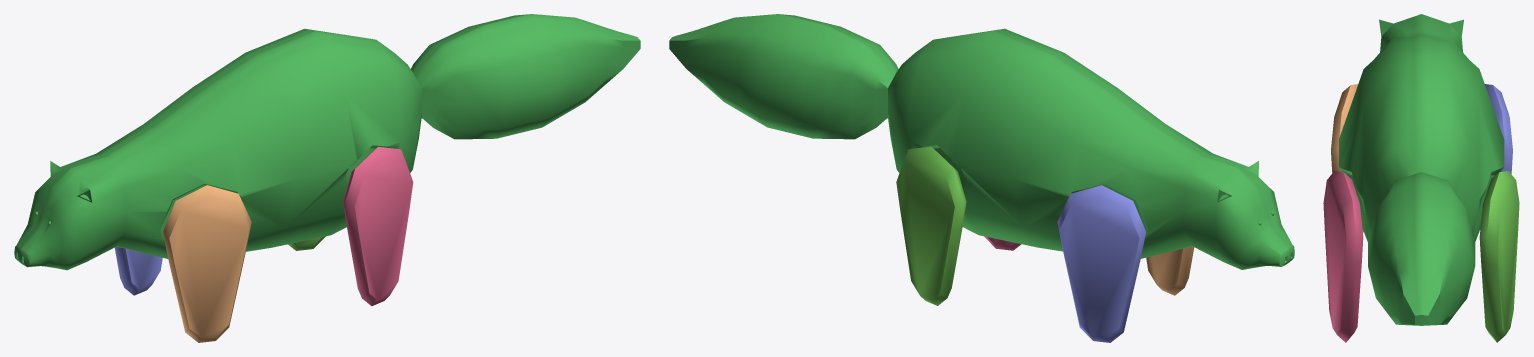
3 renders of one model, left to right at view 1: azimuth 30°, elevation 25°; view 2: azimuth 150°, elevation 25°; view 3: azimuth 270°, elevation 25°, orthographic. The views are drawn at different scales.
Parts seen in each view (by area): view 1: split_parent_3, Circle_0, Circle.001_0, Circle.003_0; view 2: split_parent_3, Circle.003_0, Circle.002_0, Circle_0; view 3: split_parent_3, Circle.002_0, Circle.001_0, Circle.003_0, Circle_0.
Part boxes in pixels (x1,y1,x2,y2): split_parent_3: [14, 14, 640, 270]; Circle_0: [163, 185, 251, 342]; Circle.001_0: [343, 147, 413, 305]; Circle.003_0: [114, 247, 162, 295]; split_parent_3: [669, 14, 1294, 269]; Circle.003_0: [1057, 185, 1145, 342]; Circle.002_0: [896, 146, 966, 305]; Circle_0: [1146, 246, 1194, 295]; split_parent_3: [1339, 14, 1504, 325]; Circle.002_0: [1479, 171, 1519, 342]; Circle.001_0: [1323, 171, 1363, 342]; Circle.003_0: [1485, 84, 1512, 173]; Circle_0: [1331, 84, 1363, 232].
Bounding box in the file's own units: 1 × 0.3883 × 0.2581.
